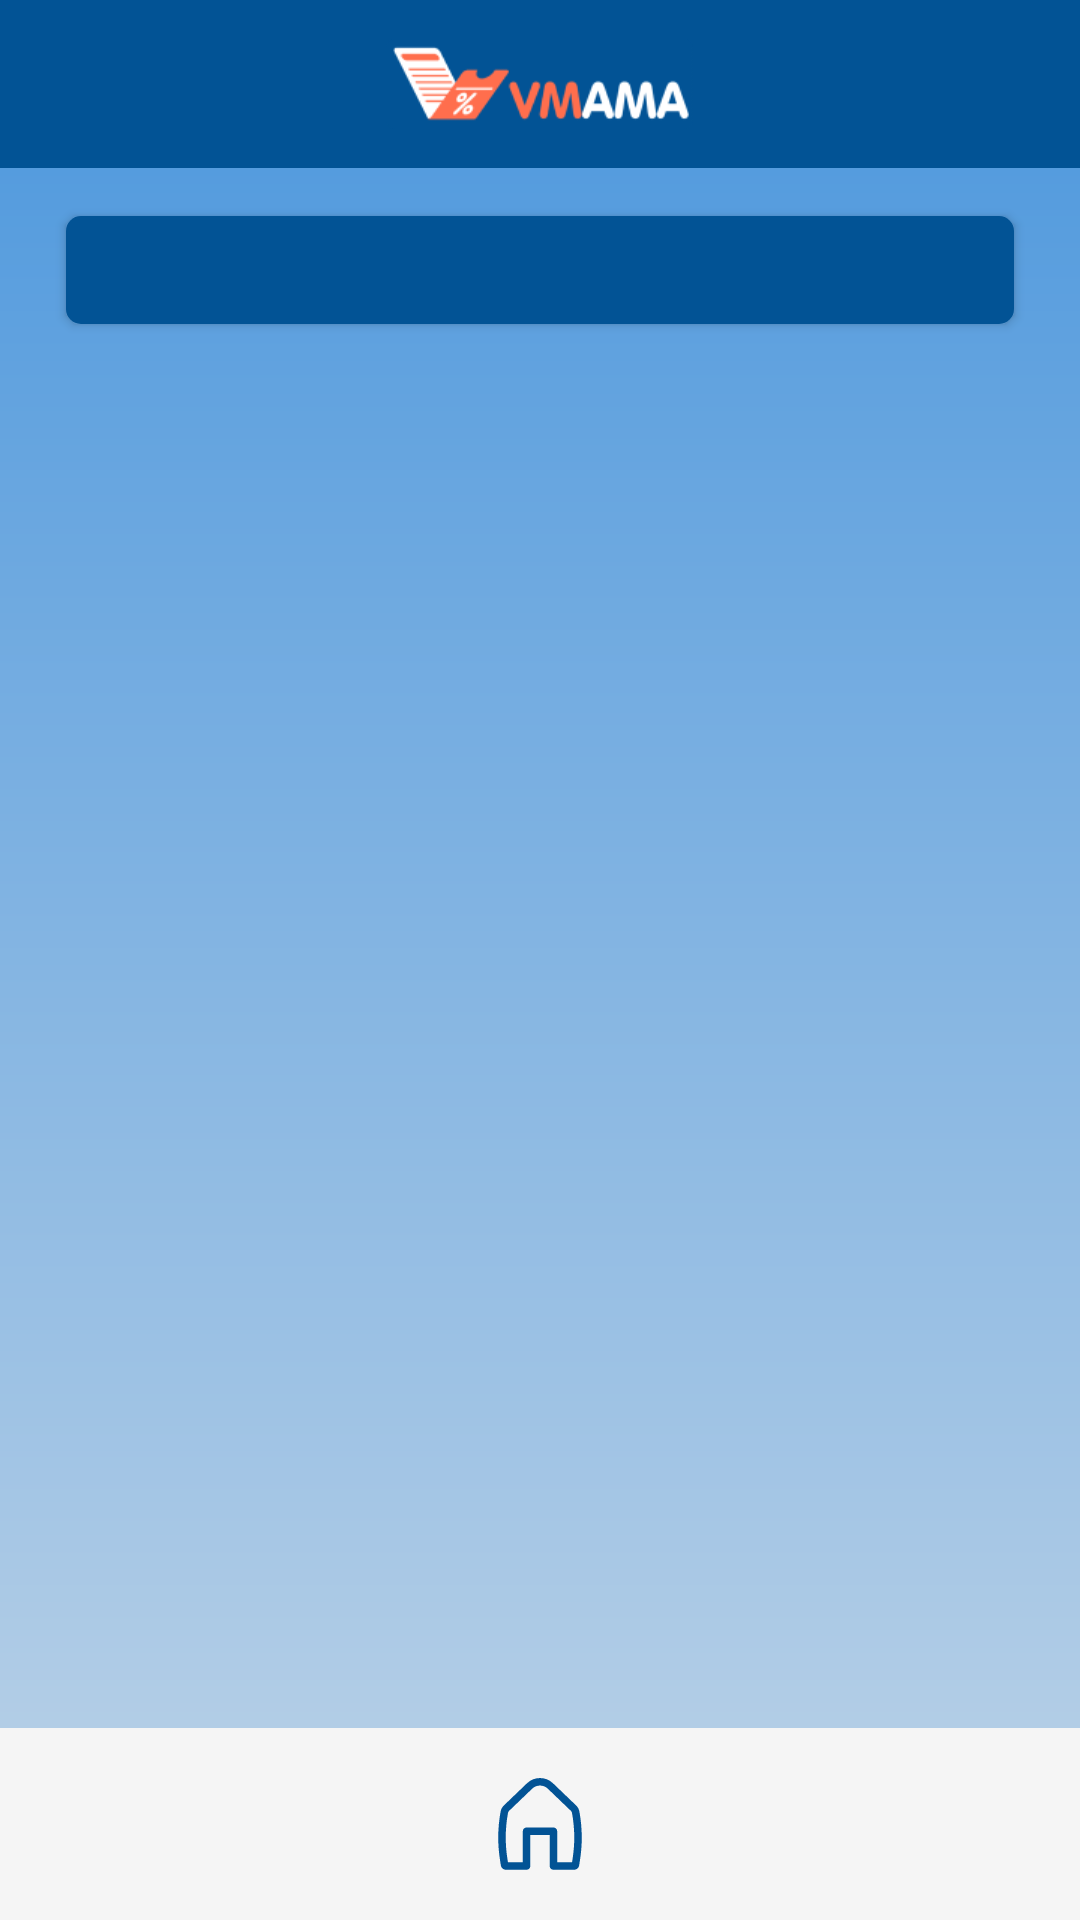

Icon bounding boxes for this 1080px×1920px phone screenshot, format (x1, y1, x2, y2):
home: (498, 1778, 582, 1870)
